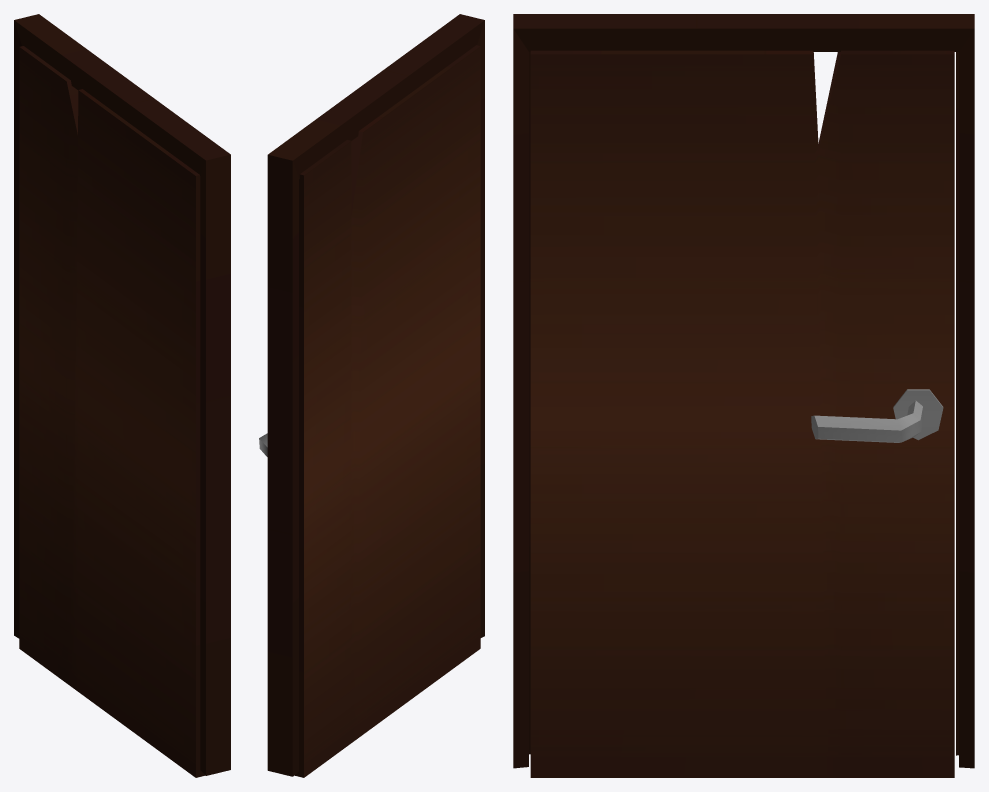
Rendered from puerta1contextura.fbx.
The picture shows the model from 3 angles, left to right: view 1: azimuth 30°, elevation 25°; view 2: azimuth 150°, elevation 25°; view 3: azimuth 270°, elevation 25°; orthographic projection. The views are drawn at different scales.
Parts seen in each view (by area): view 1: pCube1; view 2: pCube1; view 3: pCube1.
Part boxes in pixels (left/top/right/bottom): pCube1: left=14, top=14, right=230, bottom=777; pCube1: left=259, top=14, right=484, bottom=777; pCube1: left=513, top=14, right=974, bottom=777.
Size of the model in its own units: 39.29 by 348 by 194.
Materials: 1 (1 with a texture image).
